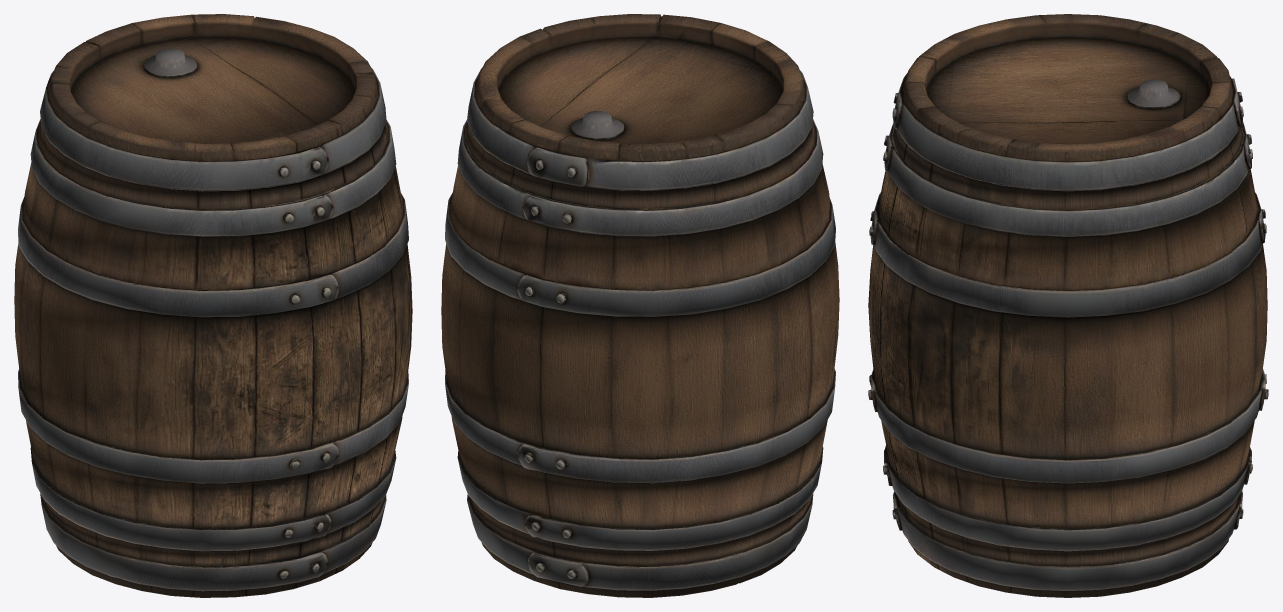
Rendered from selected.glb.
The picture shows the model from 3 angles, left to right: view 1: azimuth 30°, elevation 25°; view 2: azimuth 150°, elevation 25°; view 3: azimuth 270°, elevation 25°; orthographic projection.
Parts seen in each view (by area): view 1: tripo_node_55bbfd8e-0eb4-4459-9bb3-baf0e530ee16; view 2: tripo_node_55bbfd8e-0eb4-4459-9bb3-baf0e530ee16; view 3: tripo_node_55bbfd8e-0eb4-4459-9bb3-baf0e530ee16.
Part boxes in pixels (box(x1,y1,x2,y2)): tripo_node_55bbfd8e-0eb4-4459-9bb3-baf0e530ee16: box(14, 14, 412, 597); tripo_node_55bbfd8e-0eb4-4459-9bb3-baf0e530ee16: box(441, 14, 839, 597); tripo_node_55bbfd8e-0eb4-4459-9bb3-baf0e530ee16: box(868, 14, 1268, 597).
Bounding box in the file's own units: 0.7949 × 0.9863 × 0.7988.
Materials: 1 (1 with a texture image).
